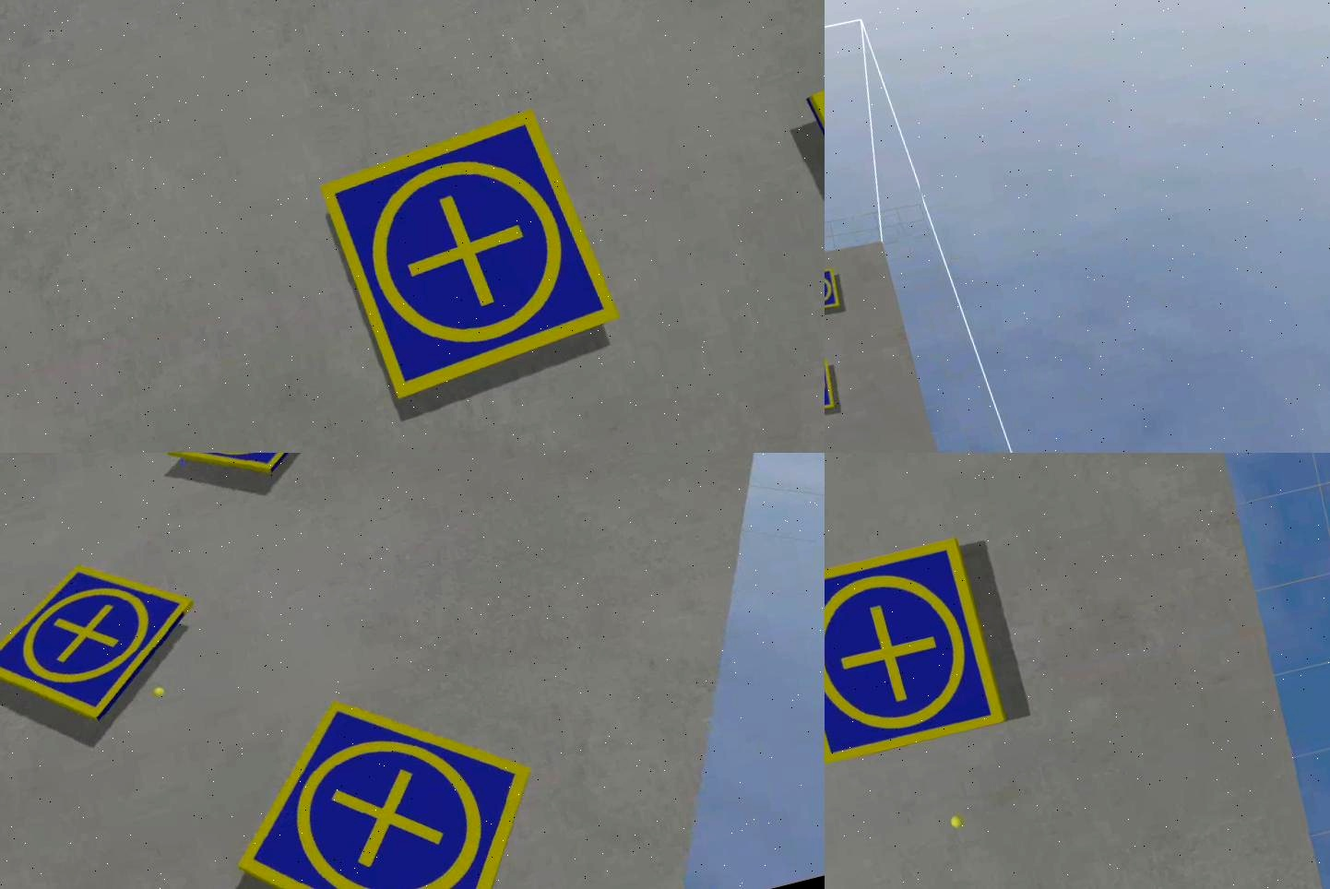small_base: (315, 102, 630, 409), (205, 658, 573, 889), (825, 531, 1015, 776), (1, 539, 218, 746), (157, 454, 343, 499), (825, 352, 842, 424), (825, 262, 845, 321)
